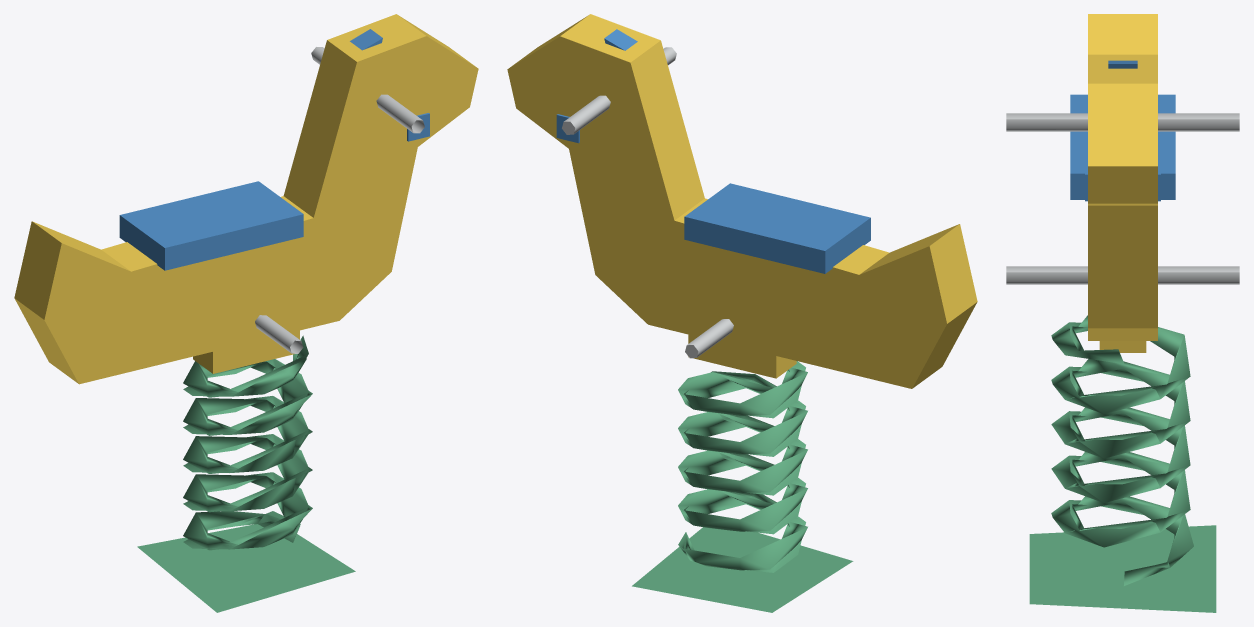
File: spring-rider-lod1.glb
The picture shows the model from 3 angles, left to right: view 1: azimuth 30°, elevation 25°; view 2: azimuth 150°, elevation 25°; view 3: azimuth 270°, elevation 25°; orthographic projection. The views are drawn at different scales.
Parts seen in each view (by area): view 1: spring-rider.001; view 2: spring-rider.001; view 3: spring-rider.001.
Boxes of the visible parts, <box> form: spring-rider.001: <box>14,14,478,612</box>; spring-rider.001: <box>507,14,977,612</box>; spring-rider.001: <box>1006,14,1239,612</box>.
Size of the model in its own units: 1 by 1.1 by 0.4001.
